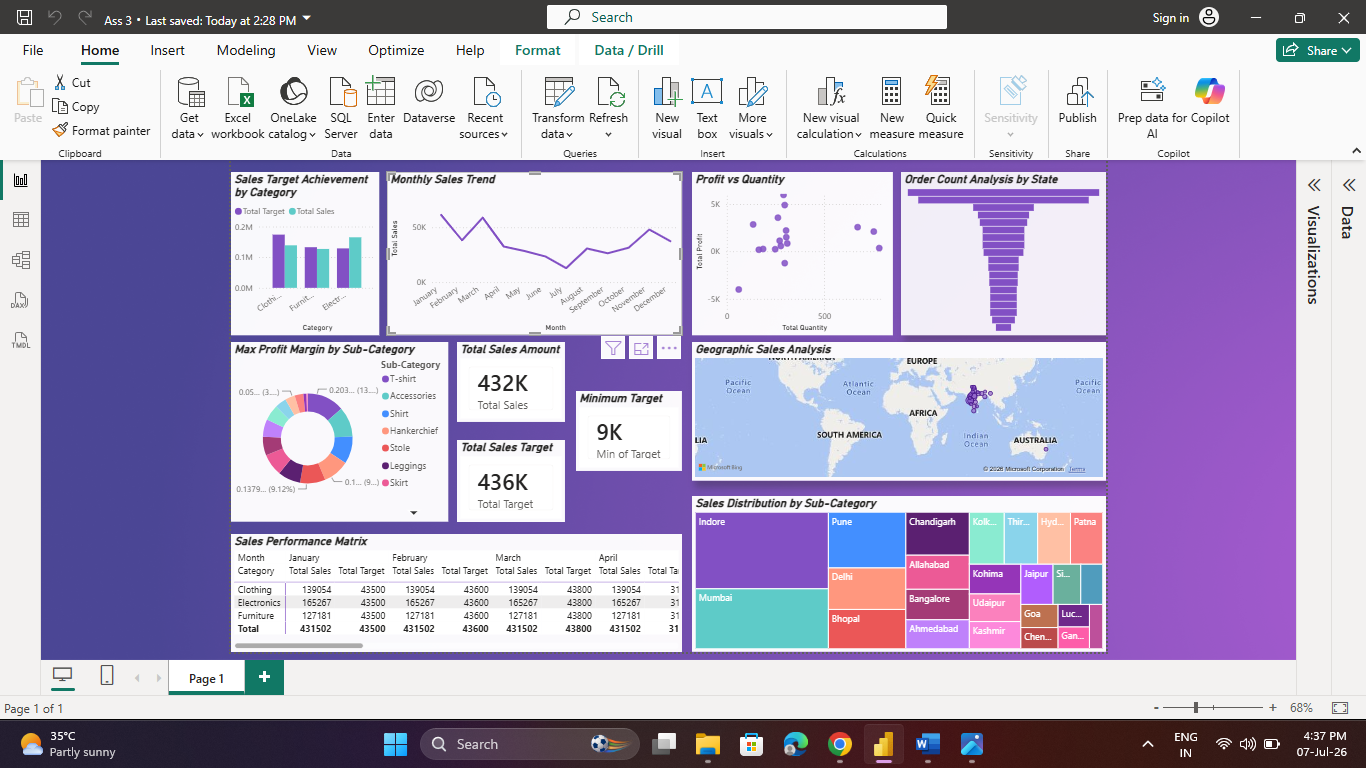

Layout of this report page (visuals, bound fields, positions):
{"tool":"powerbi","page":{"name":"Page 1","canvas":[1280,720],"ordinal":0},"visuals":[{"type":"clusteredColumnChart","title":"Sales Target Achievement by Category","fields":{"Category":["Sales target.Category"],"Y":["Sales Measures.Total Target","Sales Measures.Total Sales"]},"box":[0,17.6,216.6,238.5],"z":0},{"type":"donutChart","title":"Max Profit Margin by Sub-Category","fields":{"Category":["Order Details.Sub-Category"],"Y":["Sales Measures.Profit Margin"]},"box":[0,266.3,317.6,263.4],"z":1000},{"type":"lineChart","title":"Monthly Sales Trend","fields":{"Y":["Sales Measures.Total Sales"],"Category":["List of Orders.Month.Variation.Date Hierarchy.Month"]},"box":[228.3,17.6,431.7,238.5],"z":2000},{"type":"scatterChart","title":"Profit vs Quantity","fields":{"X":["Sales Measures.Total Quantity"],"Y":["Sales Measures.Total Profit"],"Category":["Order Details.Sub-Category"]},"box":[674.6,17.6,294.1,238.5],"z":3000},{"type":"cardVisual","title":"Total Sales Amount","fields":{"Data":["Sales Measures.Total Sales"]},"box":[330.7,266.3,158,117.1],"z":4000},{"type":"cardVisual","title":"Total Sales Target","fields":{"Data":["Sales Measures.Total Target"]},"box":[330.7,409.8,158,120],"z":5000},{"type":"pivotTable","title":"Sales Performance Matrix","fields":{"Rows":["Order Details.Category"],"Columns":["Sales target.Month of Order Date.Variation.Date Hierarchy.Month"],"Values":["Sales Measures.Total Sales","Sales Measures.Total Target"]},"box":[0,547.3,660,172.7],"z":6000},{"type":"treemap","title":"Sales Distribution by Sub-Category","fields":{"Group":["List of Orders.City"],"Values":["Sales Measures.Total Sales"]},"box":[674.6,491.7,605.9,228.3],"z":7000},{"type":"funnel","title":"Order Count Analysis by State","fields":{"Category":["List of Orders.State"],"Y":["Sales Measures.Order Count"]},"box":[980.5,17.6,300,238.5],"z":8000},{"type":"map","title":"Geographic Sales Analysis","fields":{"Category":["List of Orders.City"],"Size":["Sales Measures.Total Sales"]},"box":[674.6,266.3,605.9,203.4],"z":9000},{"type":"cardVisual","title":"Minimum Target","fields":{"Data":["Min(Sales target.Target)"]},"box":[504.9,338,155.1,117.1],"z":10000}]}

Visuals, with their boxes on the page's 1280x720 design canvas (x1, y1, x2, y2). These are canvas units, not pixel positions in the 1366x768 screenshot, which may show the page scaled, cropped or inside an application window:
"Sales Target Achievement by Category" clusteredColumnChart: 0, 18, 217, 256
"Max Profit Margin by Sub-Category" donutChart: 0, 266, 318, 530
"Monthly Sales Trend" lineChart: 228, 18, 660, 256
"Profit vs Quantity" scatterChart: 675, 18, 969, 256
"Total Sales Amount" cardVisual: 331, 266, 489, 383
"Total Sales Target" cardVisual: 331, 410, 489, 530
"Sales Performance Matrix" pivotTable: 0, 547, 660, 720
"Sales Distribution by Sub-Category" treemap: 675, 492, 1280, 720
"Order Count Analysis by State" funnel: 980, 18, 1280, 256
"Geographic Sales Analysis" map: 675, 266, 1280, 470
"Minimum Target" cardVisual: 505, 338, 660, 455
